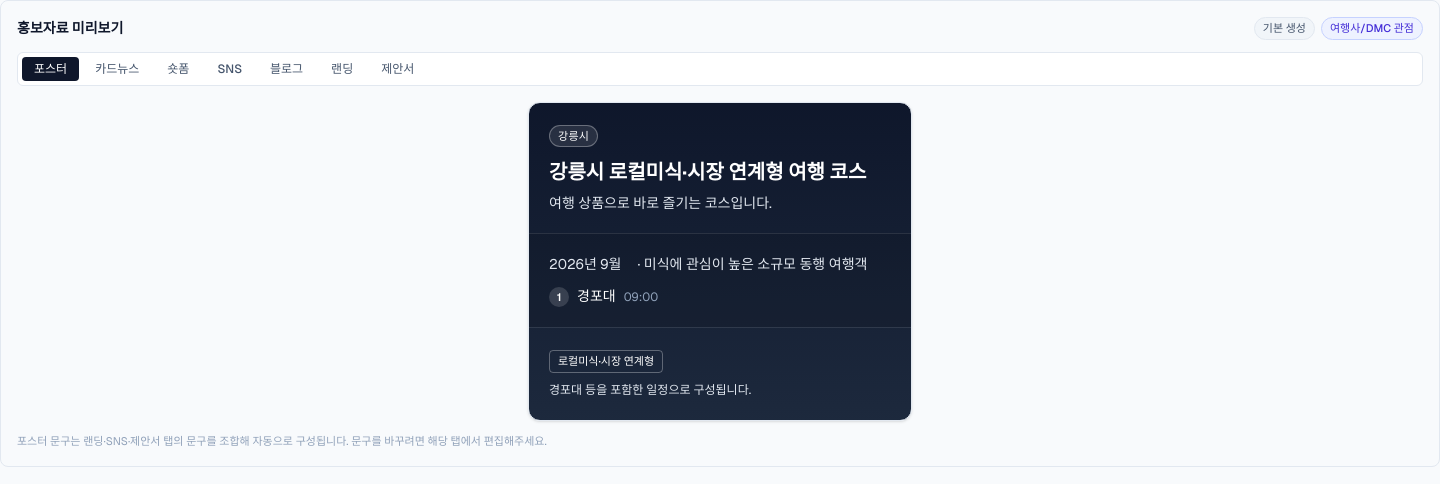
Test: PromoPreviewPanel › 카드뉴스 탭을 클릭하면 카드뉴스 미리보기로 전환된다
This screenshot has width=1440, height=484.
Click the tab "카드뉴스": click(117, 68) 83,56 -> 151,80
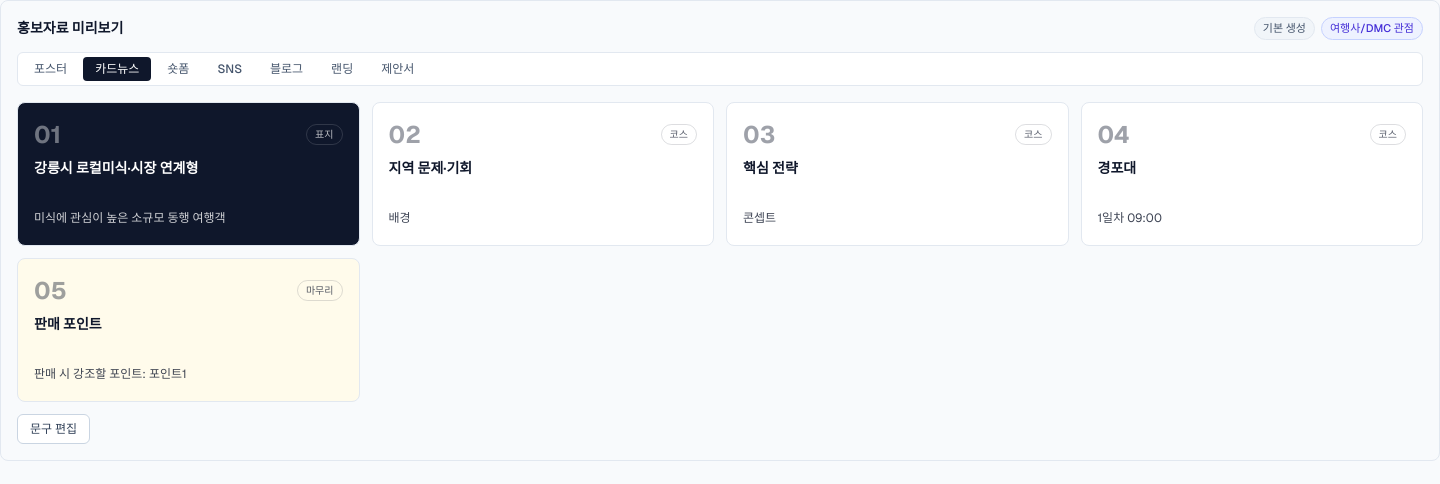
Expected: the list named "카드뉴스 미리보기" is shown
